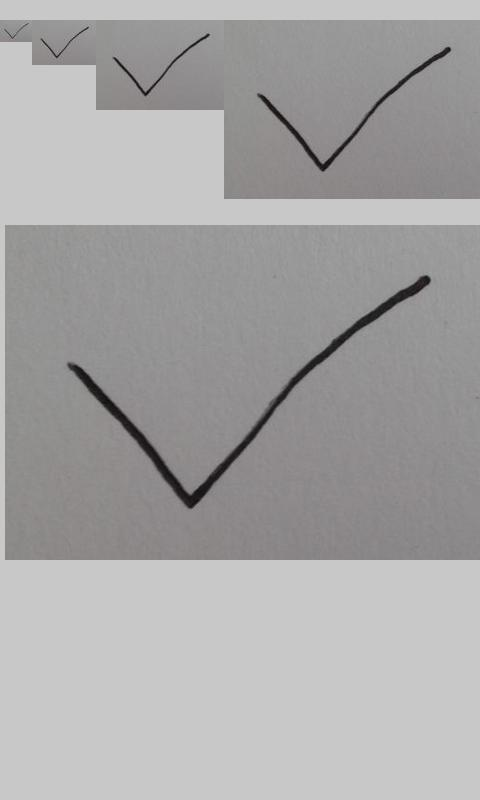check_box: (67, 276, 428, 511), (259, 47, 451, 171), (112, 35, 208, 96), (40, 26, 89, 59), (4, 23, 28, 39)
